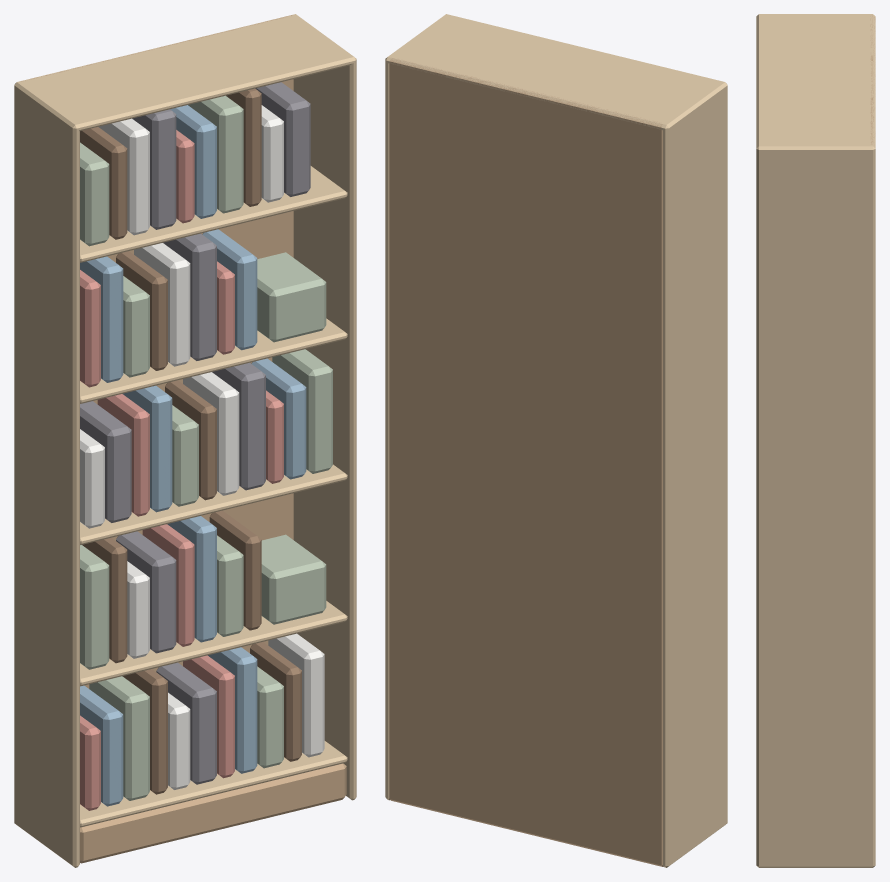
Rendered from Bookshelf.glb.
3 views of the same model, side by side, from view 1: azimuth 30°, elevation 25°; view 2: azimuth 150°, elevation 25°; view 3: azimuth 270°, elevation 25° (orthographic). The views are drawn at different scales.
Visible parts, largest first — view 1: Bookshelf_Body; view 2: Bookshelf_Body; view 3: Bookshelf_Body.
Part boxes in pixels (box(x1,y1,x2,y2)): Bookshelf_Body: box(14, 14, 356, 867); Bookshelf_Body: box(385, 14, 727, 867); Bookshelf_Body: box(756, 14, 875, 867).
Size of the model in its own units: 0.8 by 2 by 0.3.
